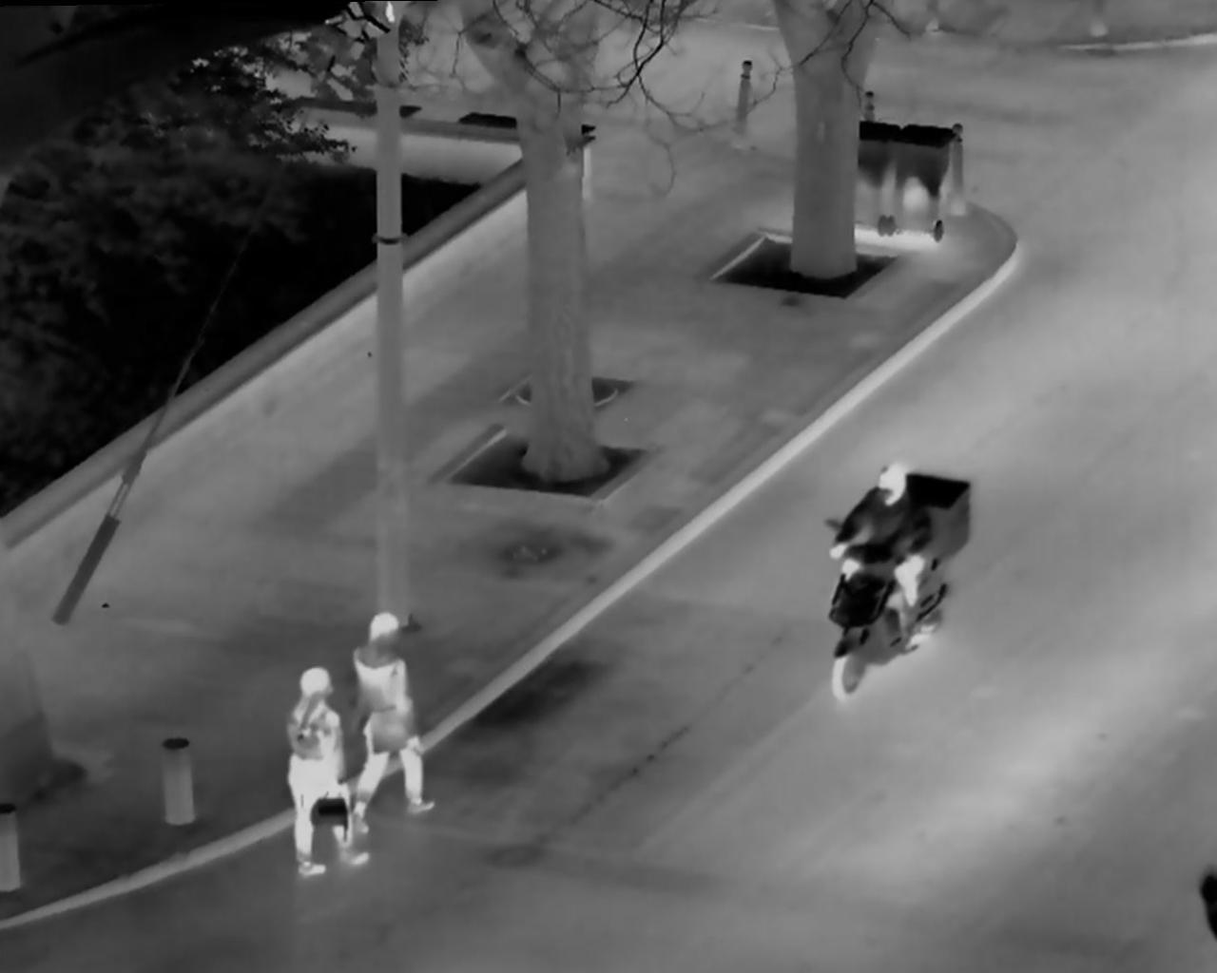person: (337, 567, 446, 813), (833, 446, 937, 687), (262, 654, 366, 874)
